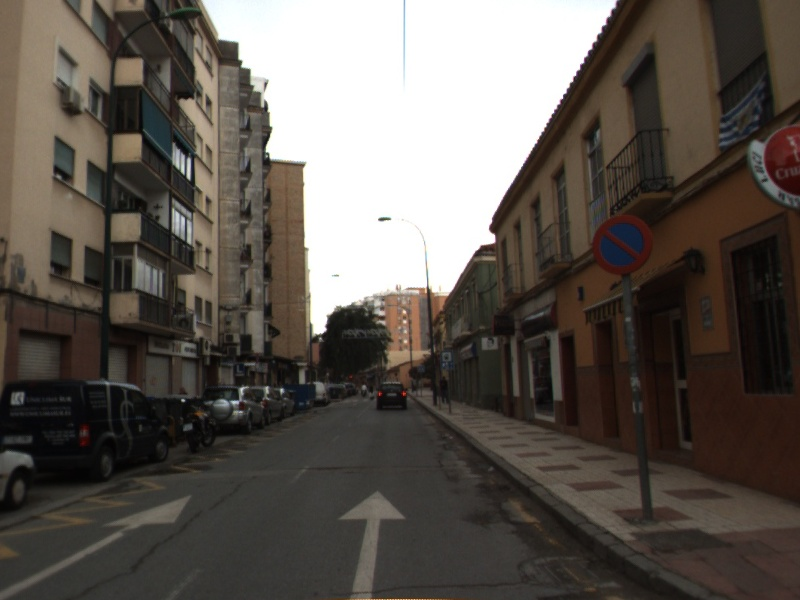STRAIGHT: (1, 493, 194, 600), (334, 488, 408, 600)
